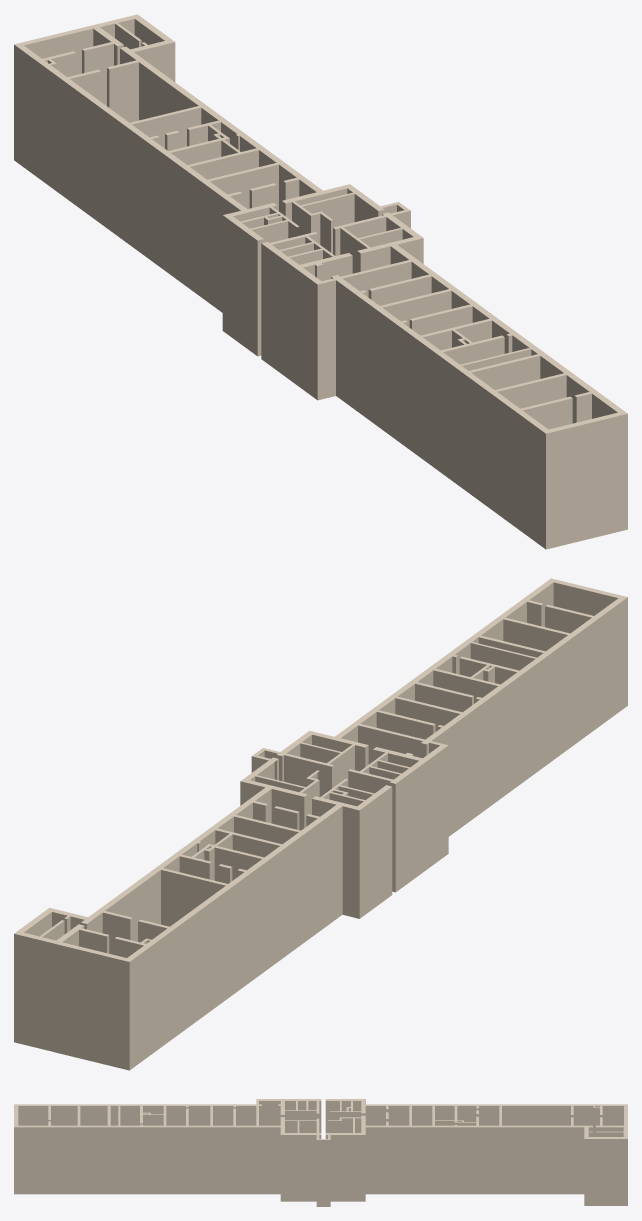
The model's file is testmodel.gltf.
The picture shows the model from 3 angles, top to bottom: view 1: azimuth 30°, elevation 25°; view 2: azimuth 150°, elevation 25°; view 3: azimuth 270°, elevation 25°; orthographic projection. The views are drawn at different scales.
Visible parts, largest first — view 1: Cube.035; view 2: Cube.035; view 3: Cube.035.
Boxes of the visible parts, x1,y1,x2,y2 form: Cube.035: [14, 14, 627, 549]; Cube.035: [14, 578, 627, 1070]; Cube.035: [14, 1099, 627, 1206].
Size of the model in its own units: 0.7101 by 0.54 by 4.49.
